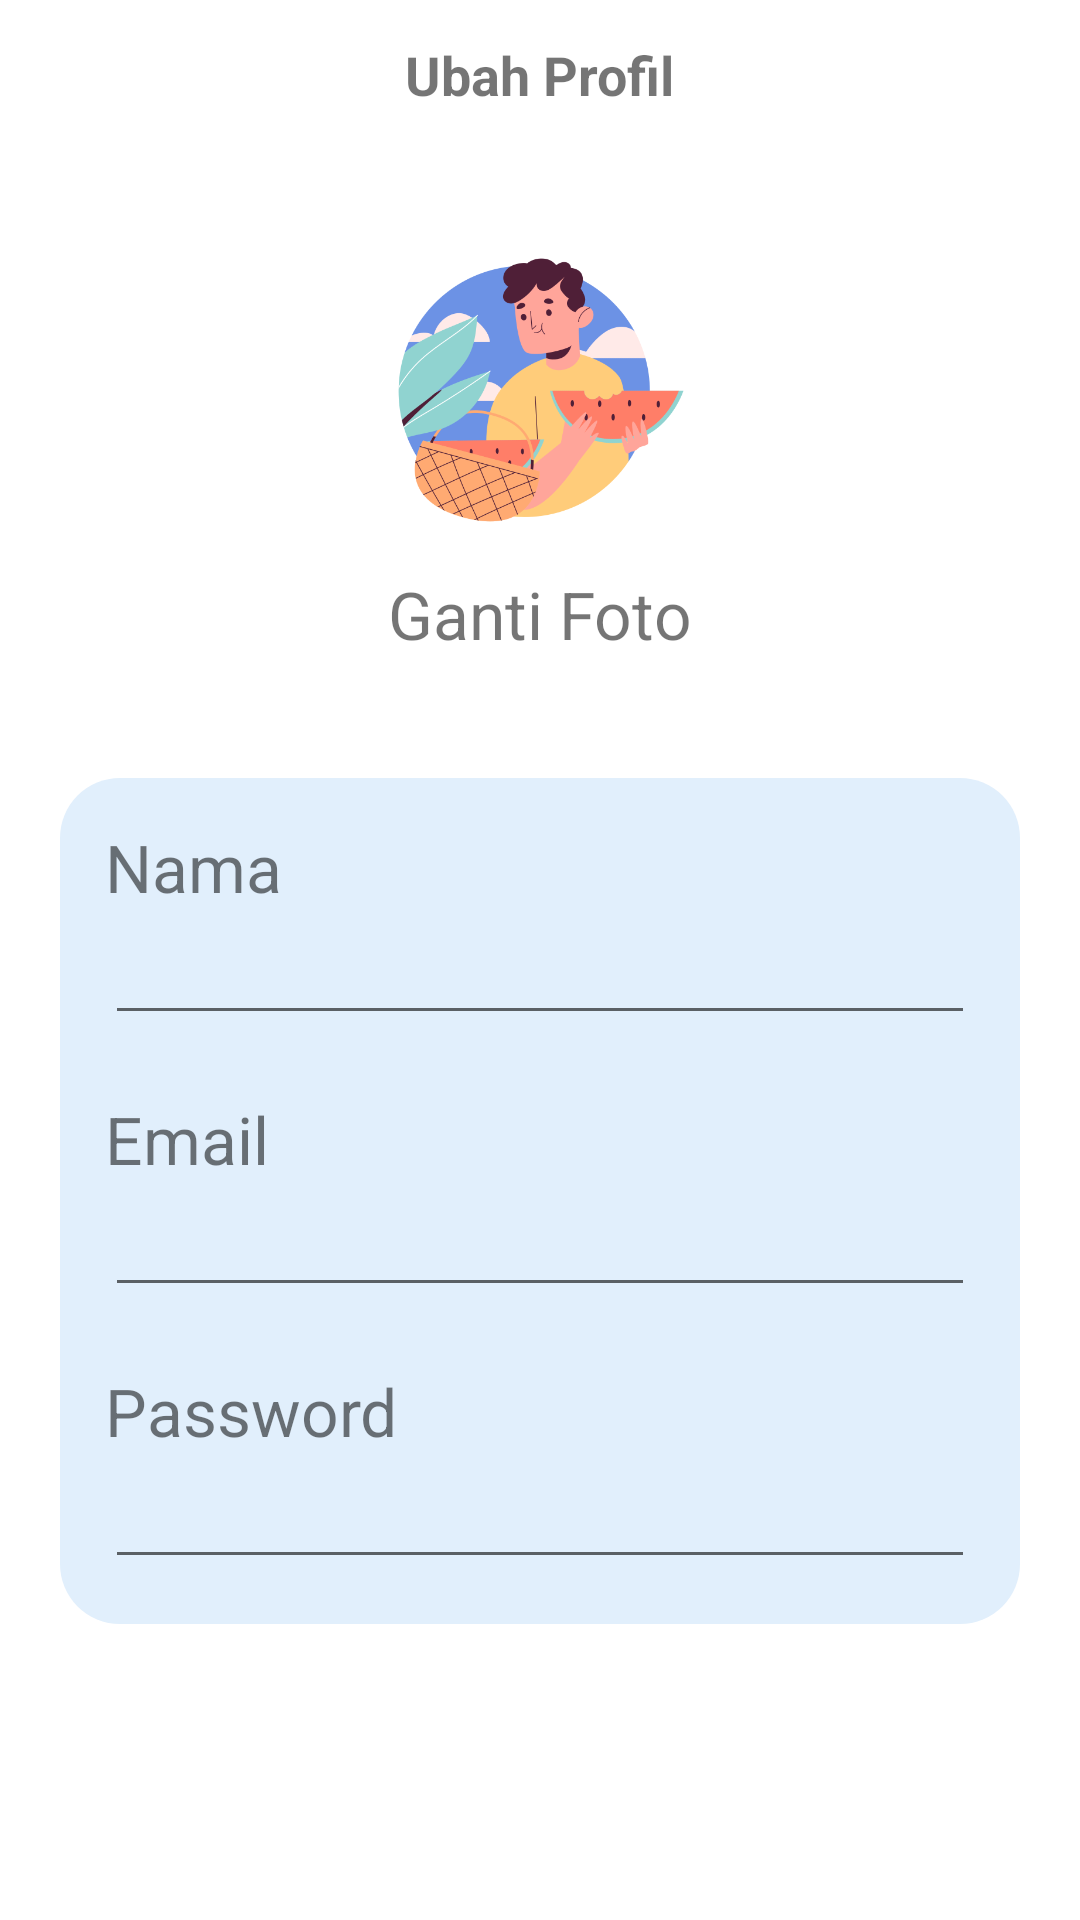

Icon click points for this 1080×1920 phone screenshot, format (x,y):
eating: (540,390)
